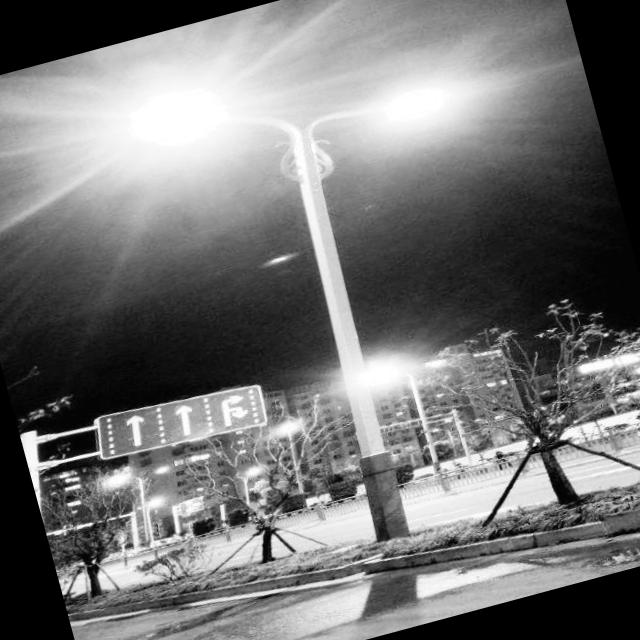Light: (120, 75, 242, 156), (370, 73, 465, 134), (354, 349, 418, 394)
